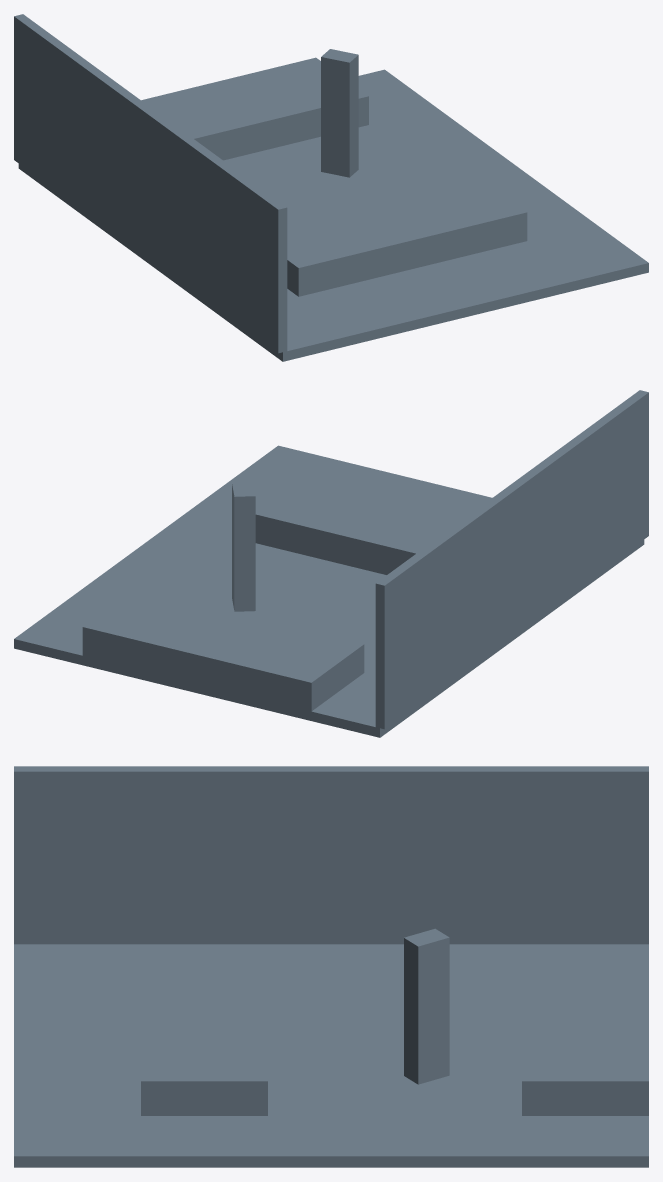
The model's file is venue.glb.
3 renders of one model, top to bottom at view 1: azimuth 30°, elevation 25°; view 2: azimuth 150°, elevation 25°; view 3: azimuth 270°, elevation 25°, orthographic. The views are drawn at different scales.
Parts seen in each view (by area): view 1: Structure_0000, Structure_0001, Structure_0002, Structure_0004, Structure_0003; view 2: Structure_0001, Structure_0000, Structure_0004, Structure_0002, Structure_0003; view 3: Structure_0001, Structure_0000, Structure_0002, Structure_0004, Structure_0003.
Boxes of the visible parts, left/top/right/bottom form: Structure_0000: left=18, top=69, right=648, bottom=361; Structure_0001: left=14, top=14, right=287, bottom=353; Structure_0002: left=287, top=173, right=527, bottom=296; Structure_0004: left=141, top=57, right=368, bottom=160; Structure_0003: left=321, top=49, right=358, bottom=177; Structure_0001: left=375, top=390, right=648, bottom=729; Structure_0000: left=14, top=445, right=644, bottom=737; Structure_0004: left=82, top=588, right=364, bottom=711; Structure_0002: left=255, top=472, right=468, bottom=574; Structure_0003: left=232, top=482, right=255, bottom=611; Structure_0001: left=14, top=766, right=648, bottom=944; Structure_0000: left=14, top=944, right=648, bottom=1167; Structure_0002: left=141, top=947, right=267, bottom=1115; Structure_0004: left=522, top=947, right=648, bottom=1115; Structure_0003: left=404, top=928, right=449, bottom=1084.
Size of the model in its own units: 8.1 by 3.2 by 10.
